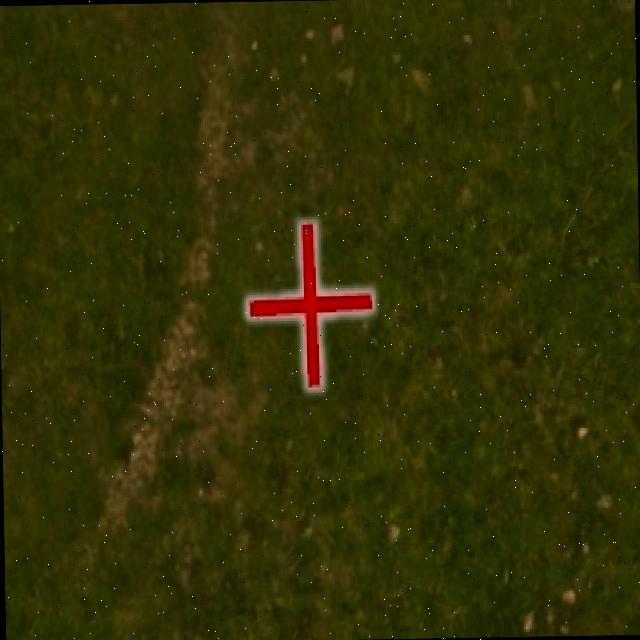x_marker: (245, 222, 372, 386)
